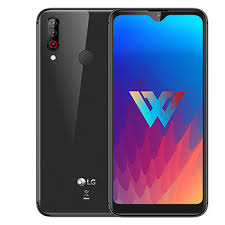lg: (107, 7, 209, 216)
